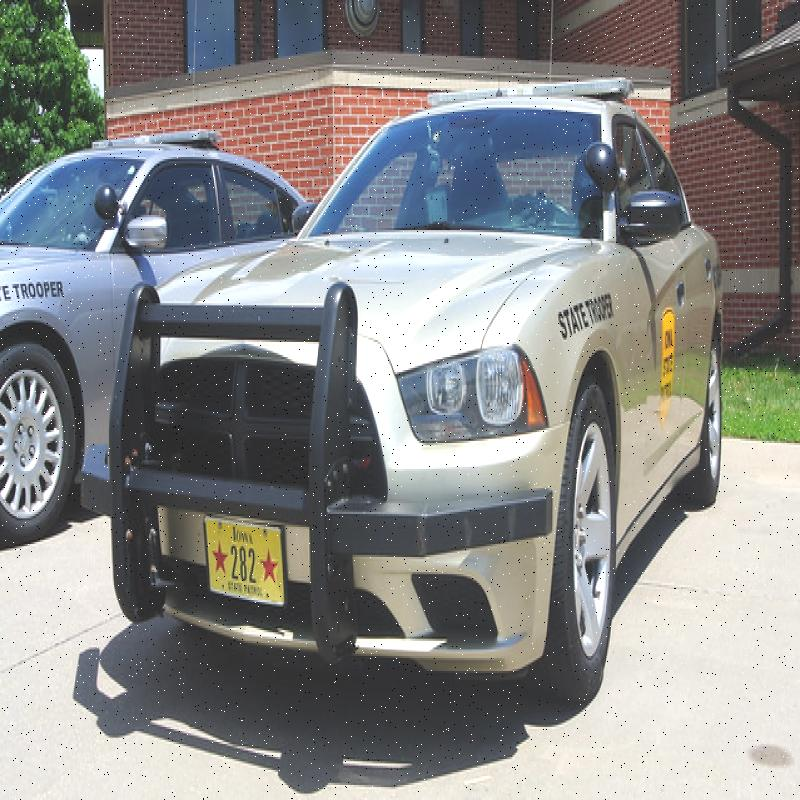AmbulanceSiren: (418, 61, 627, 112)
